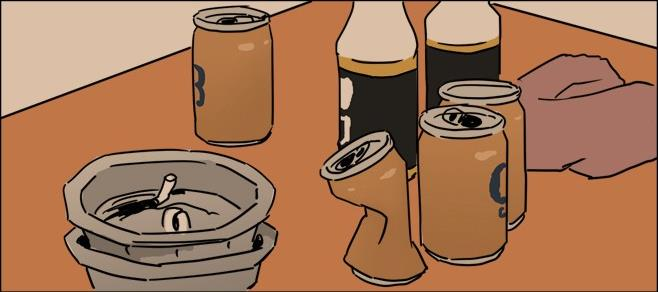bottle: (332, 1, 425, 185)
can: (414, 101, 515, 268), (184, 2, 284, 149)
